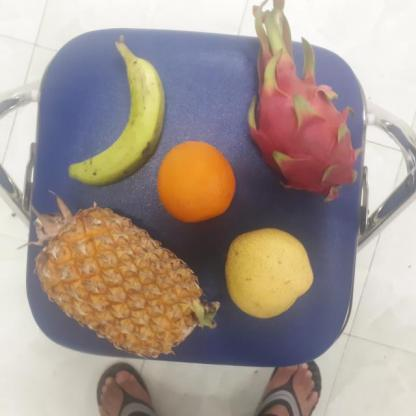banana: (78, 48, 163, 183)
orange: (154, 140, 236, 221)
pear: (222, 227, 314, 318)
pineapple: (29, 208, 206, 356)
pitaya: (245, 36, 363, 199)
